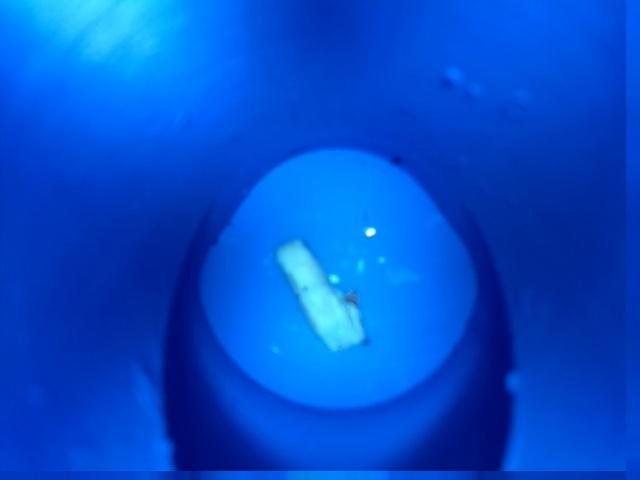megot: (262, 232, 378, 358)
